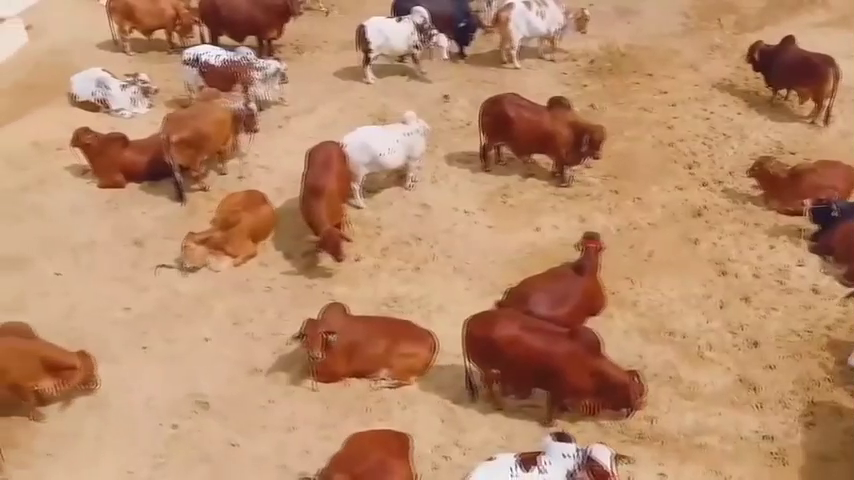bo: (456, 305, 645, 434), (291, 294, 446, 396), (471, 85, 613, 194), (489, 216, 622, 327), (6, 313, 104, 432), (334, 102, 436, 214), (448, 425, 643, 480), (171, 186, 279, 284), (736, 35, 843, 129), (159, 97, 269, 187), (293, 129, 360, 272), (345, 4, 457, 86), (53, 55, 159, 131), (486, 2, 598, 69), (176, 42, 294, 105), (302, 416, 422, 476), (70, 117, 164, 193), (746, 149, 854, 215), (196, 5, 313, 60), (388, 1, 485, 65), (96, 3, 198, 58), (796, 197, 854, 286)
